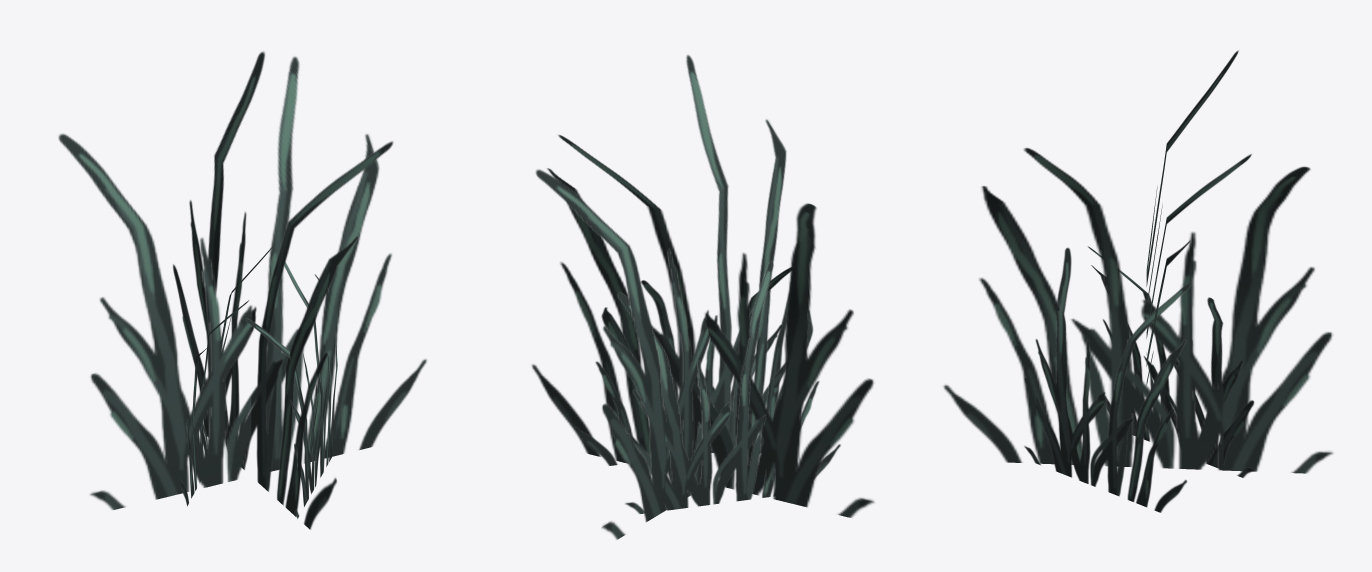
File: grasstuft_test_v4.glb
The picture shows the model from 3 angles, left to right: view 1: azimuth 30°, elevation 25°; view 2: azimuth 150°, elevation 25°; view 3: azimuth 270°, elevation 25°; orthographic projection.
Parts seen in each view (by area): view 1: Plane; view 2: Plane; view 3: Plane.
Part boxes in pixels (x1=…): Plane: x1=58, y1=51, x2=426, y2=529; Plane: x1=531, y1=54, x2=874, y2=539; Plane: x1=943, y1=50, x2=1333, y2=512.
Bounding box in the file's own units: 1.75 × 1.65 × 1.78.
1 material, 1 textured.
